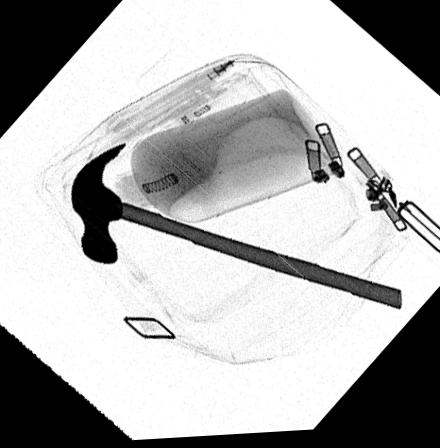Hammer: (69, 143, 403, 315)
